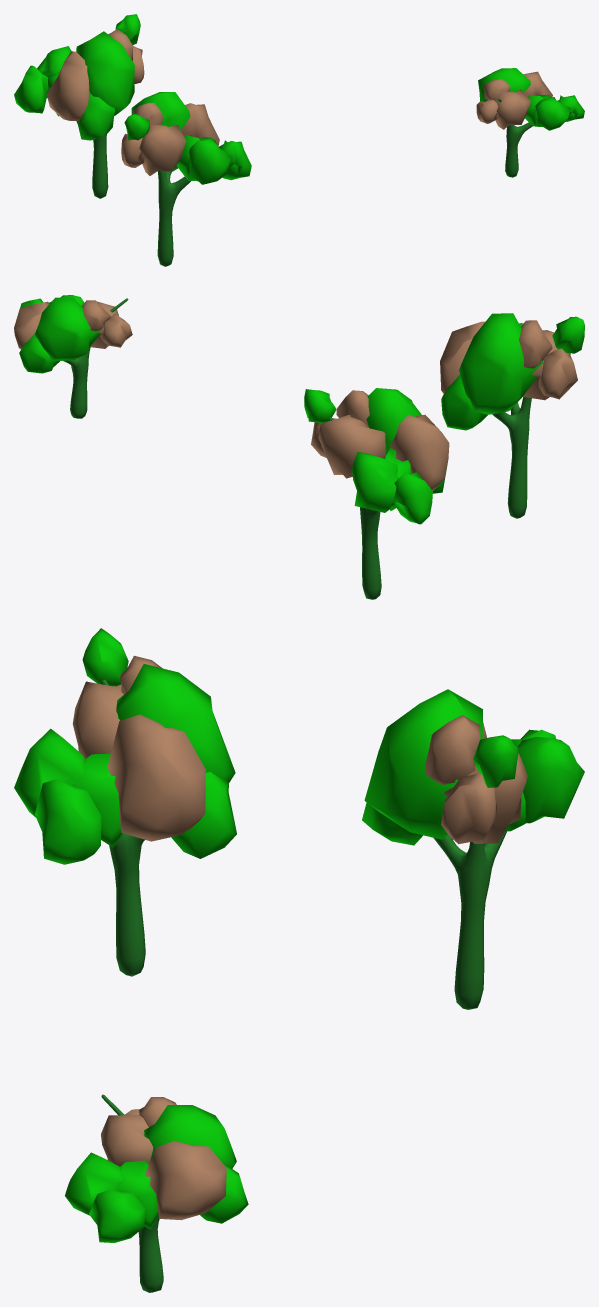
Rendered from LightingTree.fbx.
3 renders of one model, top to bottom at view 1: azimuth 30°, elevation 25°; view 2: azimuth 150°, elevation 25°; view 3: azimuth 270°, elevation 25°, orthographic. The views are drawn at different scales.
Parts seen in each view (by area): view 1: Icosphere.021, Plane.023, Plane.025; view 2: Icosphere.021, Plane.023, Plane.025; view 3: Plane.023, Icosphere.021, Plane.025.
Boxes of the visible parts, <box> form: Icosphere.021: <box>14,14,144,198</box>; Plane.023: <box>121,92,251,266</box>; Plane.025: <box>476,68,584,177</box>; Icosphere.021: <box>304,388,449,599</box>; Plane.023: <box>440,313,584,518</box>; Plane.025: <box>14,295,132,418</box>; Plane.023: <box>14,628,236,976</box>; Icosphere.021: <box>362,689,584,1009</box>; Plane.025: <box>65,1094,248,1292</box>.
Bounding box in the file's own units: 2651 × 968 × 1553.
